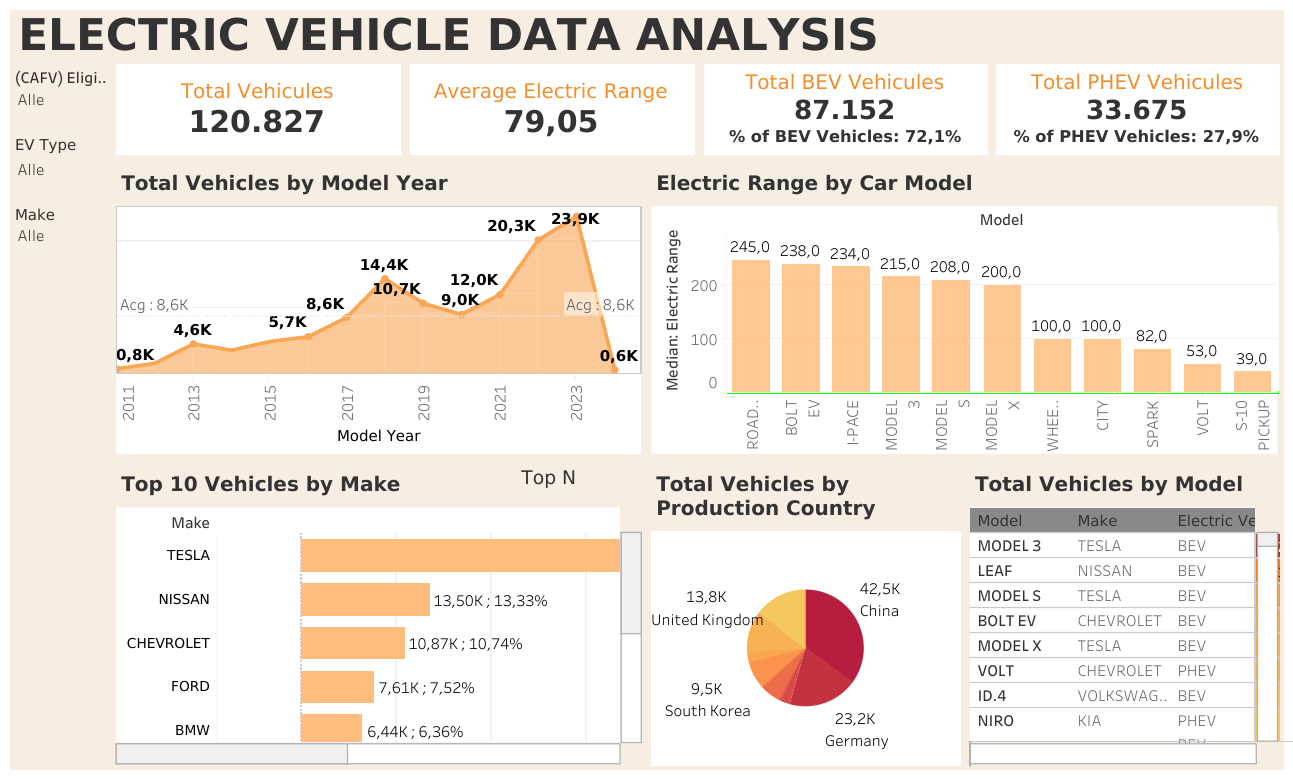

The page's visual inventory and layout, read from the dashboard file:
{"tool":"tableau","page":{"name":"Dashboard ","canvas":[1000,1000],"units":"permille","ordinal":0},"visuals":[{"type":"title","box":[4.8,9.4,990.3,63.3]},{"type":"filter","title":"Total Vehicles by Model Year","param":"[federated.0wjo5dh1w12yr3124sxff129ib71].[none:Clean Alternative Fuel Vehicle (C","box":[4.8,72.7,78.5,71.7]},{"type":"worksheet","title":"Total Vehicles","mark":"Automatic","box":[83.3,72.9,228.1,128.1]},{"type":"worksheet","title":"AVG Electric Range","mark":"Automatic","box":[311.4,72.9,228.1,128.1]},{"type":"worksheet","title":"Total BEV Vehicles","mark":"Automatic","box":[539.5,72.9,228.1,128.1]},{"type":"worksheet","title":"Total PHEV Vehicles","mark":"Automatic","box":[767.6,72.9,227.5,128.1]},{"type":"filter","title":"Total Vehicles by Model Year","param":"[federated.0wjo5dh1w12yr3124sxff129ib71].[none:Electric Vehicle Type:nk]","box":[4.8,144.3,78.5,71.7]},{"type":"worksheet","title":"Total Vehicles by Model Year","mark":"Area","rows":["Calculation_1019010829201410","Calculation_1019010829201410"],"cols":["Model Year"],"box":[83.3,201.4,416.7,389]},{"type":"worksheet","title":"Electric Range by Car Model","mark":"Automatic","rows":["Electric Range"],"cols":["Model"],"box":[500,201.4,495.2,389]},{"type":"filter","title":"Total Vehicules by Make","param":"[federated.0wjo5dh1w12yr3124sxff129ib71].[none:Make:nk]","box":[4.8,216,78.5,148.1]},{"type":"worksheet","title":"Total Vehicules by Make","mark":"Automatic","rows":["Make"],"cols":["Calculation_1019010829201410"],"box":[83.3,590.5,416.7,400.1]},{"type":"worksheet","title":"Total Vehicles by Production Country","mark":"Pie","box":[500,590.5,247.6,400.2]},{"type":"worksheet","title":"Top Vehicles by Make","mark":"Square","rows":["Model","Make","Electric Vehicle Type"],"box":[747.6,590.5,247.6,400.2]},{"type":"parameter","param":"[Parameters].[Parameter 1019010848583688]","box":[389.4,594.4,75.6,33.3]}]}

Visuals, with their boxes on the dashboard's canvas, which has no fixed pixel size, in thousandths of its width and height (x1, y1, x2, y2). These are canvas units, not pixel positions in the 1293x779 screenshot, which may show the page scaled, cropped or inside an application window:
title: {"left": 5, "top": 9, "right": 995, "bottom": 73}
"Total Vehicles by Model Year" filter: {"left": 5, "top": 73, "right": 83, "bottom": 144}
"Total Vehicles" worksheet: {"left": 83, "top": 73, "right": 311, "bottom": 201}
"AVG Electric Range" worksheet: {"left": 311, "top": 73, "right": 540, "bottom": 201}
"Total BEV Vehicles" worksheet: {"left": 540, "top": 73, "right": 768, "bottom": 201}
"Total PHEV Vehicles" worksheet: {"left": 768, "top": 73, "right": 995, "bottom": 201}
"Total Vehicles by Model Year" filter: {"left": 5, "top": 144, "right": 83, "bottom": 216}
"Total Vehicles by Model Year" worksheet (Area marks): {"left": 83, "top": 201, "right": 500, "bottom": 590}
"Electric Range by Car Model" worksheet: {"left": 500, "top": 201, "right": 995, "bottom": 590}
"Total Vehicules by Make" filter: {"left": 5, "top": 216, "right": 83, "bottom": 364}
"Total Vehicules by Make" worksheet: {"left": 83, "top": 590, "right": 500, "bottom": 991}
"Total Vehicles by Production Country" worksheet (Pie marks): {"left": 500, "top": 590, "right": 748, "bottom": 991}
"Top Vehicles by Make" worksheet (Square marks): {"left": 748, "top": 590, "right": 995, "bottom": 991}
parameter: {"left": 389, "top": 594, "right": 465, "bottom": 628}
